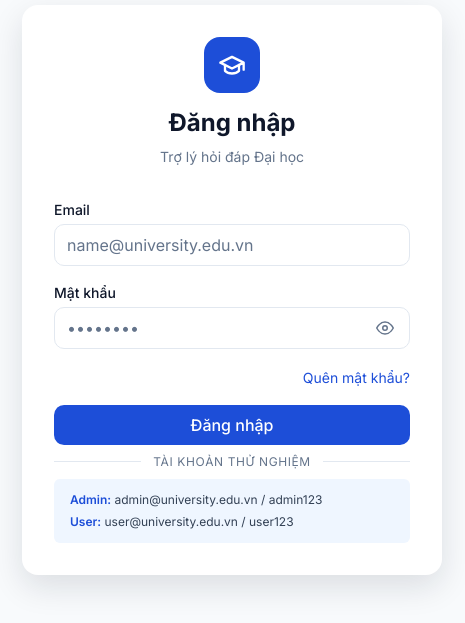
Test: LoginForm › báo lỗi khi mật khẩu ngắn hơn 6 ký tự
This screenshot has width=465, height=623.
Type "a@university.edu.vn" into the field labelled "Email" at (232, 245), box [54,224,410,266]
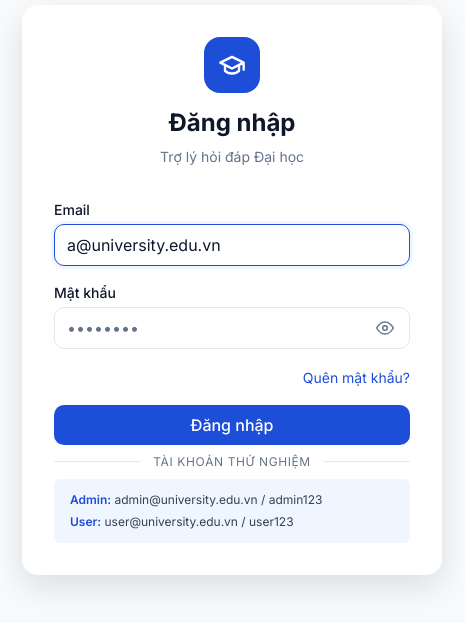
Type "123" into the password field labelled "Mật khẩu" at (232, 328), box [54,307,410,349]
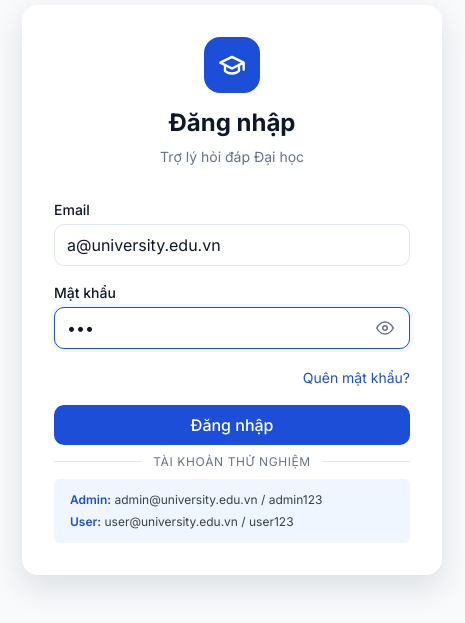
Click the button "Đăng nhập" at (232, 425), box [54,405,410,445]
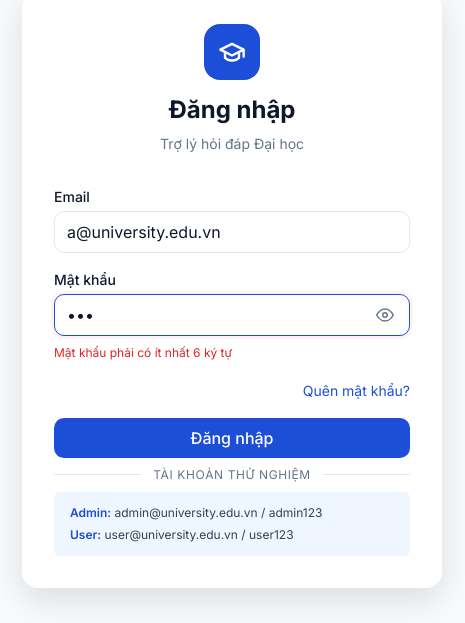
Now the text "Mật khẩu phải có ít nhất 6 ký tự" is shown, box [54,345,232,360]
